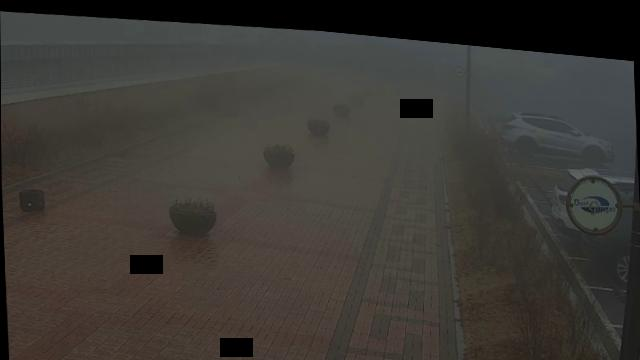bag: (18, 186, 45, 214)
